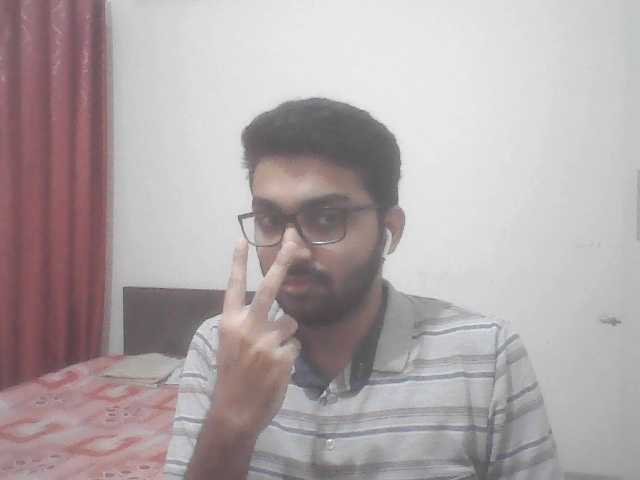see: (188, 228, 323, 468)
